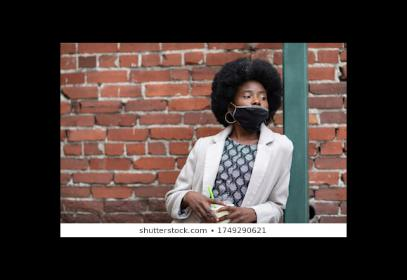mask_weared_incorrect: (239, 91, 268, 123)
